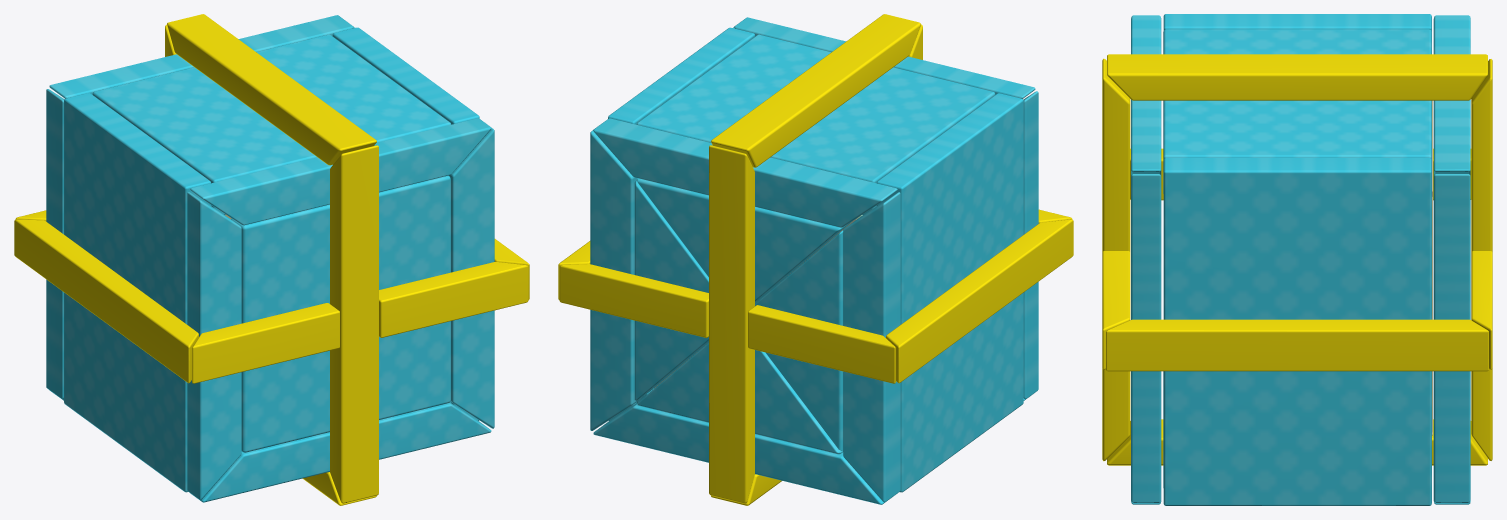
The model's file is Level_182.fbx.
3 renders of one model, left to right at view 1: azimuth 30°, elevation 25°; view 2: azimuth 150°, elevation 25°; view 3: azimuth 270°, elevation 25°, orthographic. The views are drawn at different scales.
Parts seen in each view (by area): view 1: Cube_L1 6.004, Cube_L1 14.004, Cube_L1 1.007, Cube_L1 12.004, Cube_L1 16.004, Cube_L1 3.007, Cube_L1 7.004, Cube_L1 10.004, Cube_L1 8.004, Cube_L1 5.004, Cube_L1 15.004, Cube_L1 4.005 (+6 smaller); view 2: Cube_L1 14.004, Cube_L2.006, Cube_L1 12.004, Cube_L2 3.005, Cube_L1 16.004, Cube_L2 4.004, Cube_L1 10.004, Cube_L1 8.004, Cube_L2 5.004, Cube_L1 15.004, Cube_L2 6.004, Cube_L2 7.004 (+9 smaller); view 3: Cube_L1 13.004, Cube_L1 17.004, Cube_L1 11.004, Cube_L1 10.004, Cube_L1 15.004, Cube_L2 5.004, Cube_L1 5.004, Cube_L1 1.007, Cube_L1 16.004, Cube_L2.006, Cube_L2 4.004, Cube_L1 14.004 (+4 smaller).
Part boxes in pixels (x1=…): Cube_L1 6.004: x1=231, y1=175, x2=450, y2=452; Cube_L1 14.004: x1=64, y1=93, x2=211, y2=324; Cube_L1 1.007: x1=330, y1=145, x2=378, y2=503; Cube_L1 12.004: x1=64, y1=292, x2=187, y2=492; Cube_L1 16.004: x1=92, y1=67, x2=317, y2=214; Cube_L1 3.007: x1=187, y1=192, x2=241, y2=500; Cube_L1 7.004: x1=190, y1=118, x2=491, y2=225; Cube_L1 10.004: x1=167, y1=14, x2=376, y2=165; Cube_L1 8.004: x1=14, y1=219, x2=198, y2=383; Cube_L1 5.004: x1=449, y1=127, x2=494, y2=428; Cube_L1 15.004: x1=256, y1=34, x2=450, y2=142; Cube_L1 4.005: x1=190, y1=402, x2=491, y2=502; Cube_L1 14.004: x1=876, y1=93, x2=1023, y2=324; Cube_L2.006: x1=709, y1=145, x2=754, y2=503; Cube_L1 12.004: x1=900, y1=293, x2=1023, y2=492; Cube_L2 3.005: x1=843, y1=192, x2=900, y2=502; Cube_L1 16.004: x1=770, y1=67, x2=995, y2=214; Cube_L2 4.004: x1=593, y1=118, x2=897, y2=227; Cube_L1 10.004: x1=711, y1=14, x2=920, y2=167; Cube_L1 8.004: x1=886, y1=219, x2=1073, y2=383; Cube_L2 5.004: x1=590, y1=130, x2=646, y2=430; Cube_L1 15.004: x1=636, y1=34, x2=831, y2=142; Cube_L2 6.004: x1=593, y1=403, x2=889, y2=504; Cube_L2 7.004: x1=755, y1=230, x2=843, y2=450; Cube_L1 13.004: x1=1163, y1=158, x2=1431, y2=319; Cube_L1 17.004: x1=1163, y1=371, x2=1431, y2=505; Cube_L1 11.004: x1=1106, y1=319, x2=1488, y2=371; Cube_L1 10.004: x1=1107, y1=54, x2=1487, y2=100; Cube_L1 15.004: x1=1163, y1=100, x2=1431, y2=193; Cube_L2 5.004: x1=1433, y1=173, x2=1470, y2=502; Cube_L1 5.004: x1=1131, y1=173, x2=1161, y2=502; Cube_L1 1.007: x1=1102, y1=58, x2=1130, y2=461; Cube_L1 16.004: x1=1163, y1=29, x2=1431, y2=54; Cube_L2.006: x1=1471, y1=59, x2=1492, y2=460; Cube_L2 4.004: x1=1433, y1=15, x2=1470, y2=176; Cube_L1 14.004: x1=1163, y1=14, x2=1431, y2=31.
Bounding box in the file's own units: 9.59 × 9.59 × 8.64.
